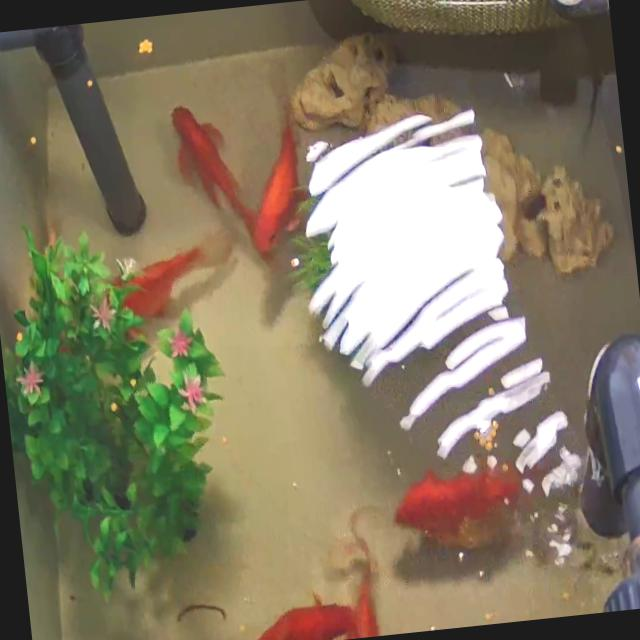fish: (395, 462, 524, 556), (168, 96, 254, 228), (244, 108, 312, 255), (106, 245, 216, 326), (195, 589, 361, 640), (320, 517, 388, 640)
